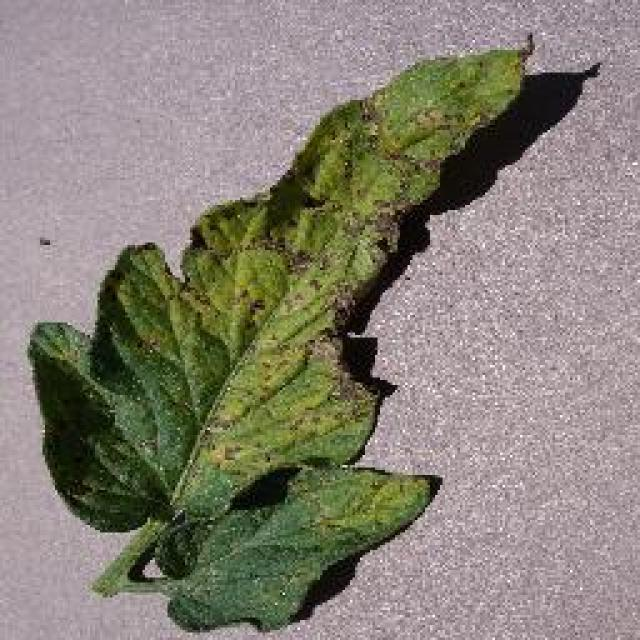Tom_Septoria_leaf_spot: (144, 239, 400, 461), (290, 34, 535, 231)
